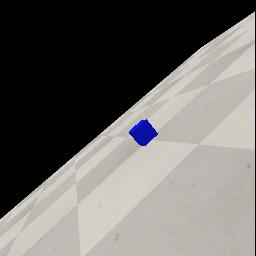box: (129, 119, 158, 146)
